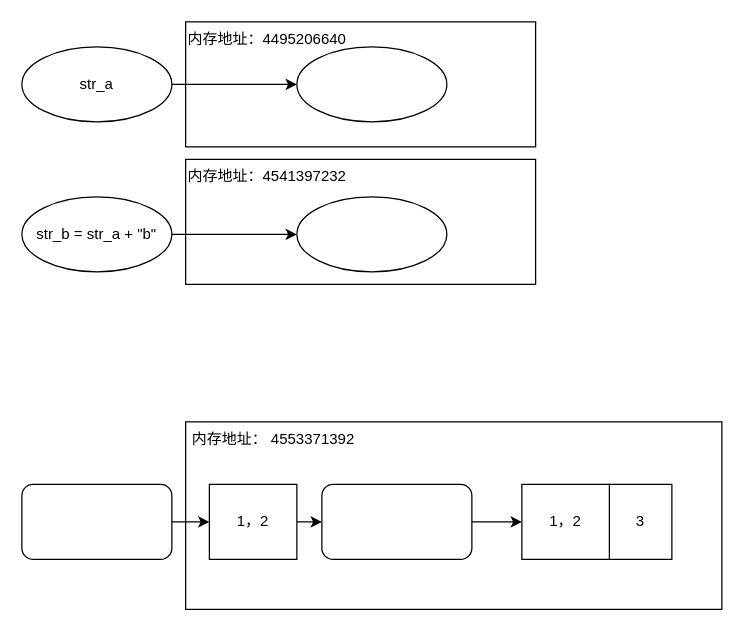
The diagram is 744 pixels wide and 631 high, and some of its shapes have lost their labels. Each missing label, with the centre of its shape:
"a": [371,84]
"ab": [371,234]
list_a: [96,521]
list_a.append( 3 ): [396,521]
